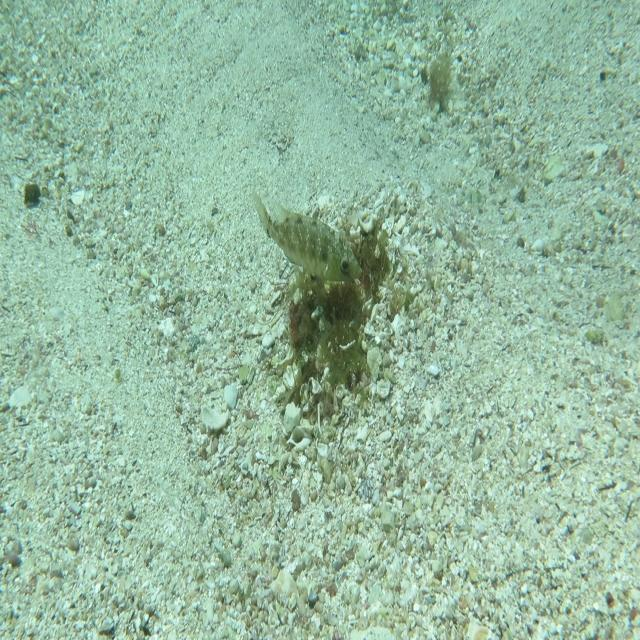FAN: (248, 185, 364, 284)
nest: (276, 210, 407, 418)
vegetation: (424, 49, 457, 114), (22, 183, 41, 214)
